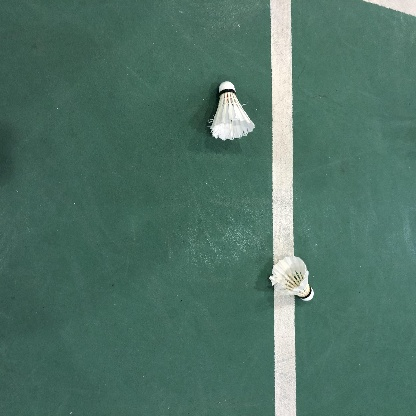ball_single: (210, 81, 254, 141), (269, 256, 314, 301)
